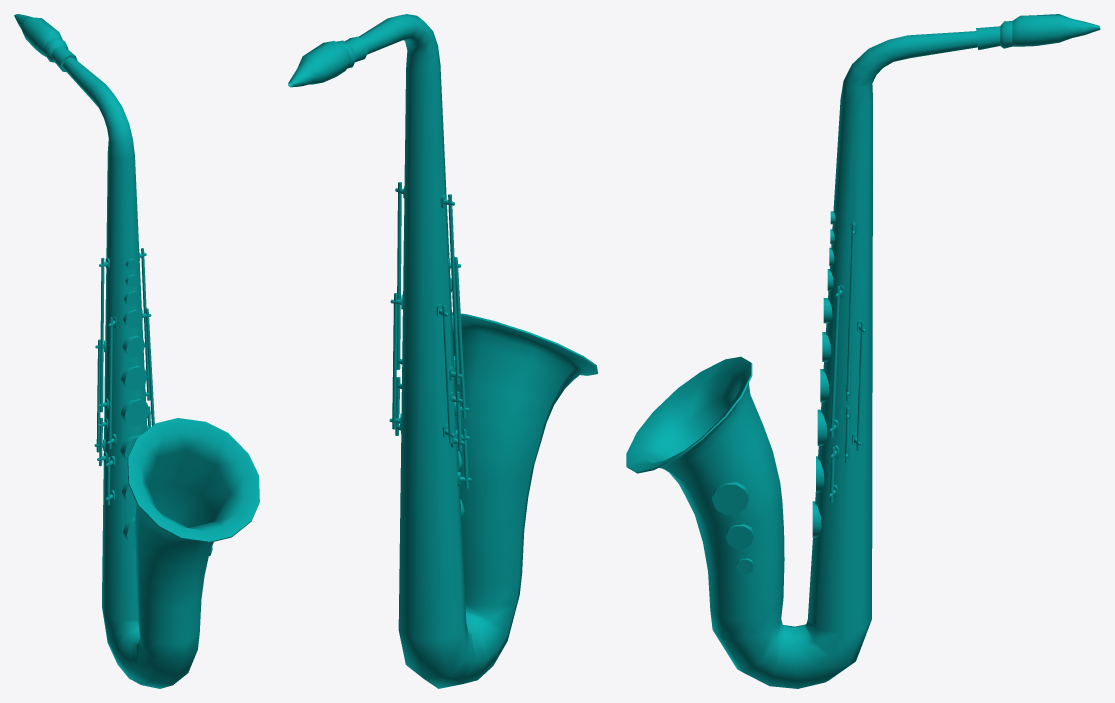
File: saxophone.fbx
The picture shows the model from 3 angles, left to right: view 1: azimuth 30°, elevation 25°; view 2: azimuth 150°, elevation 25°; view 3: azimuth 270°, elevation 25°; orthographic projection. The views are drawn at different scales.
Visible parts, largest first — view 1: saxophone; view 2: saxophone; view 3: saxophone.
Part boxes in pixels (box(x1,y1,x2,y2)): saxophone: box(14, 14, 259, 688); saxophone: box(288, 14, 597, 688); saxophone: box(626, 14, 1100, 688).
Size of the model in its own units: 17.32 by 79.37 by 50.78.
